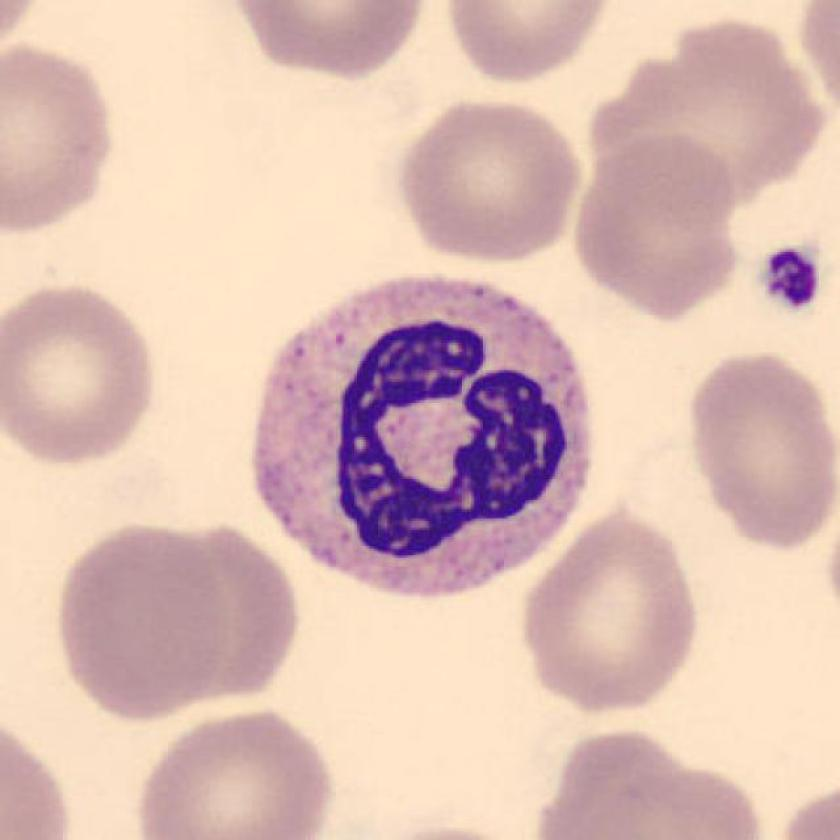neutrophil: (247, 277, 595, 598)
